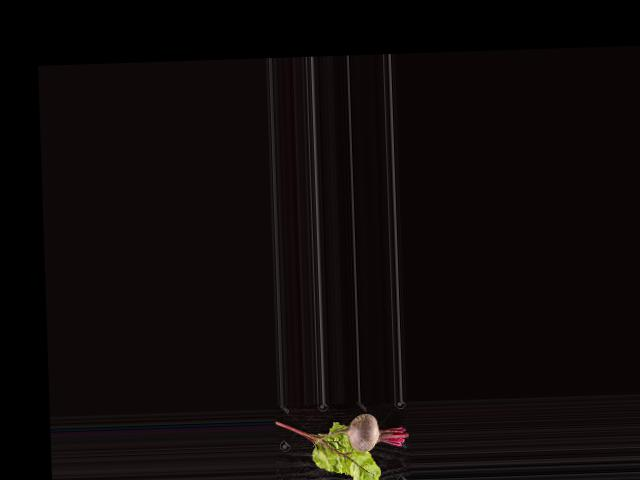beet: (312, 412, 409, 453)
